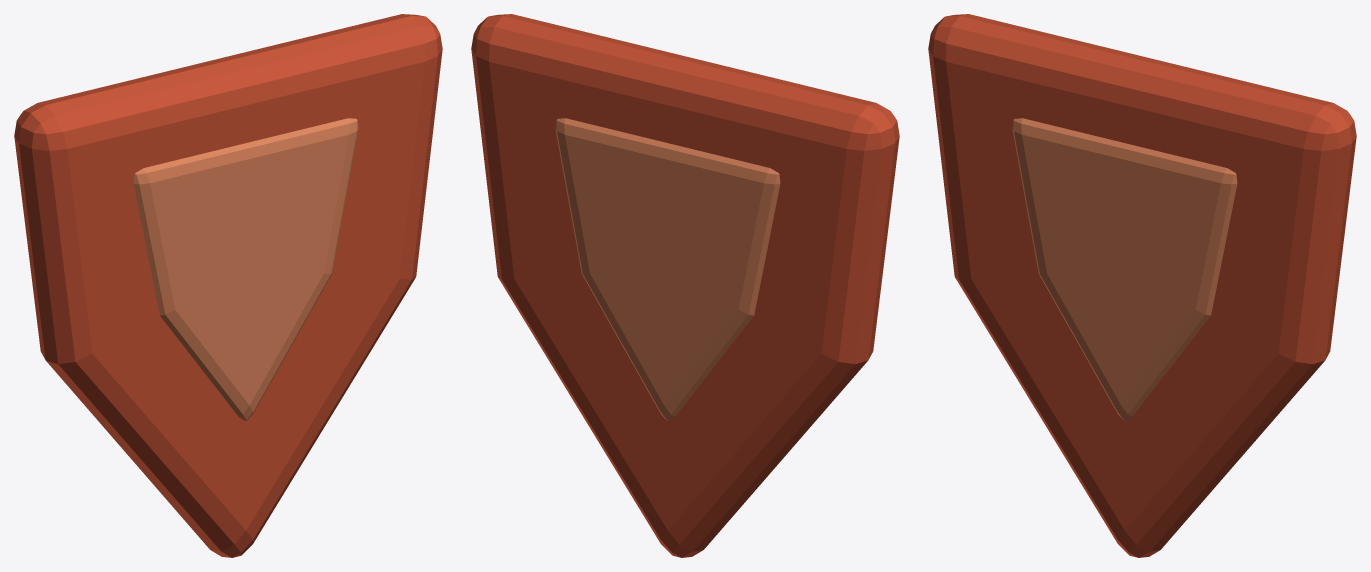
The model's file is mat_scale.glb.
The picture shows the model from 3 angles, left to right: view 1: azimuth 30°, elevation 25°; view 2: azimuth 150°, elevation 25°; view 3: azimuth 330°, elevation 25°; orthographic projection.
Visible parts, largest first — view 1: _profile; view 2: _profile; view 3: _profile.
Boxes of the visible parts, x1=… form: _profile: x1=14, y1=14, x2=442, y2=557; _profile: x1=471, y1=14, x2=899, y2=557; _profile: x1=928, y1=14, x2=1356, y2=557.
Size of the model in its own units: 0.6876 by 0.7752 by 0.12.
